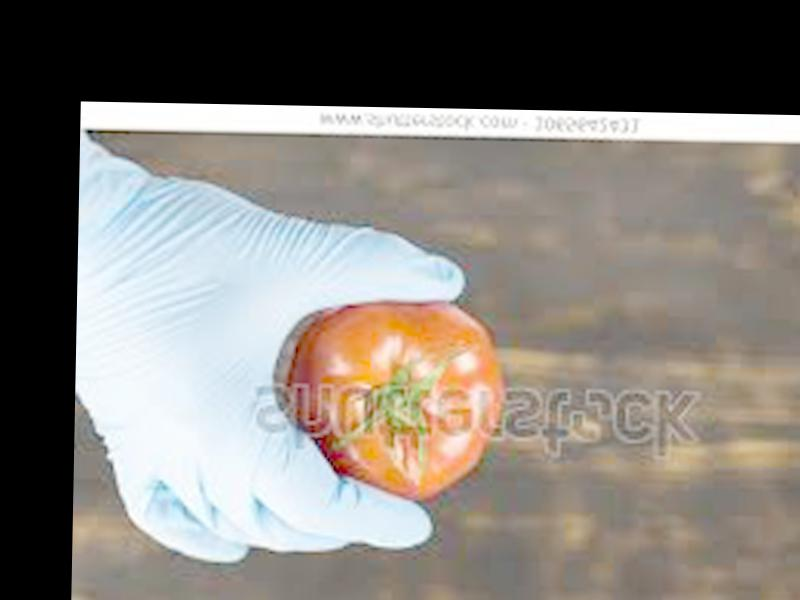Tomato: (283, 296, 508, 501)
